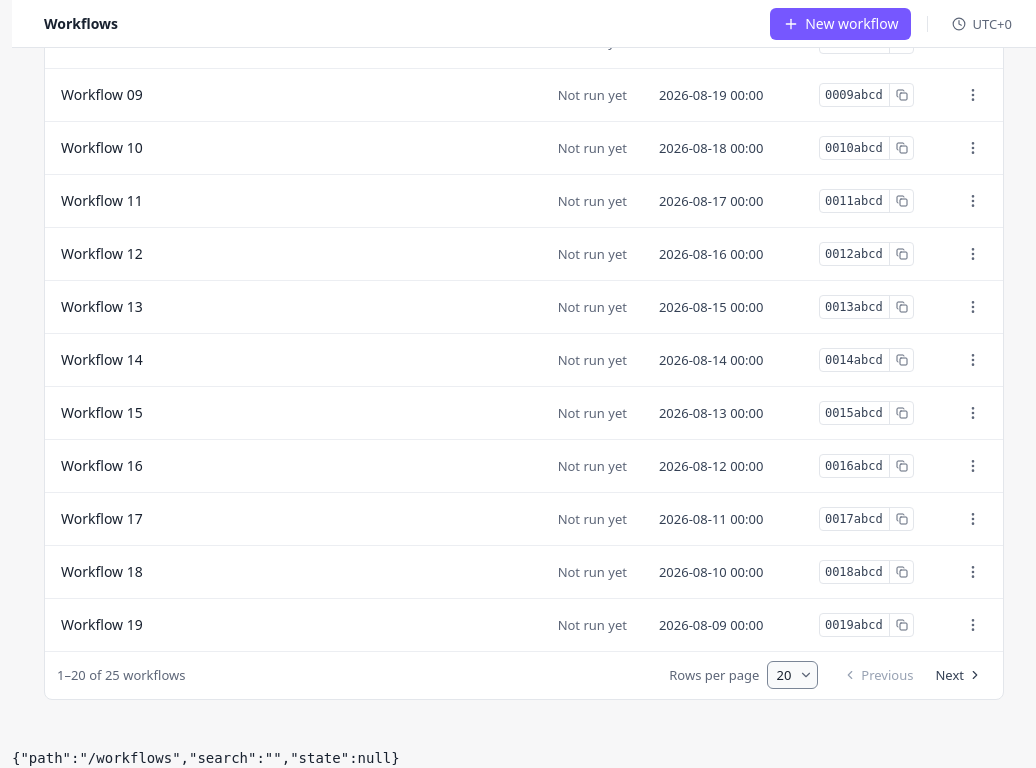
WorkflowsPage paging › pages the list client-side when there are more than 20 rows
The image size is (1036, 768).
(page scrolled)
Expected: the text "1–20 of 25 workflows" is shown, x1=57 y1=666 x2=185 y2=684
Click the button "Next" at {"x": 959, "y": 675}, box x1=926 y1=661 x2=991 y2=689
(page scrolled)
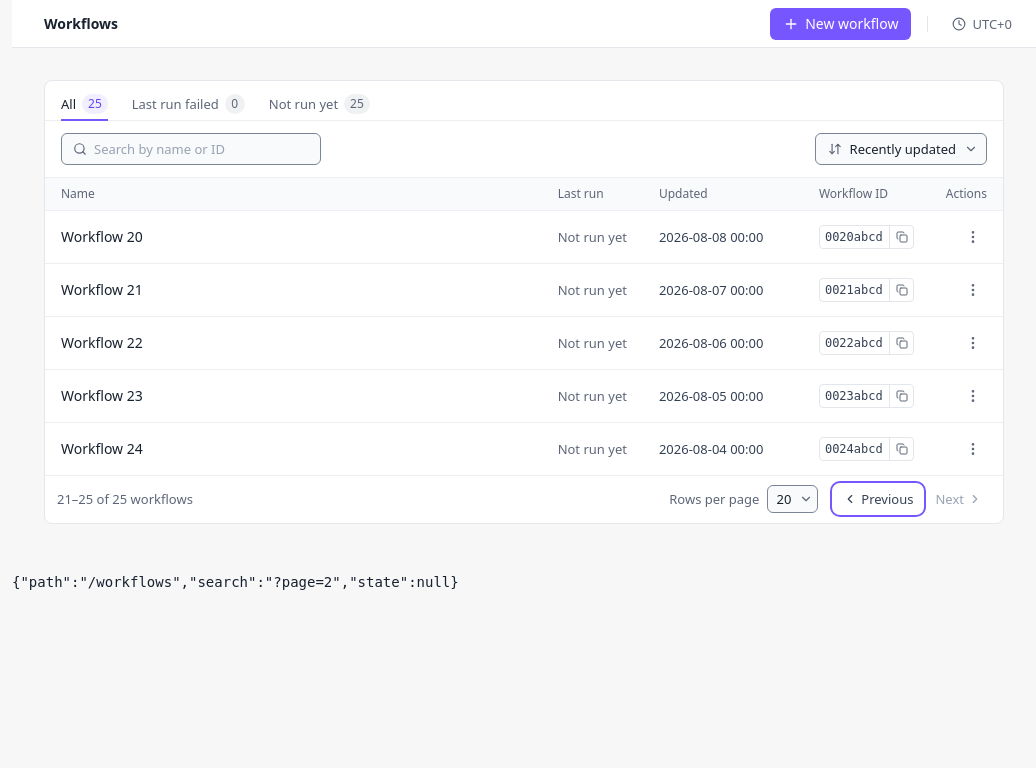
Now the text "21–25 of 25 workflows" is shown, box x1=57 y1=490 x2=193 y2=508
